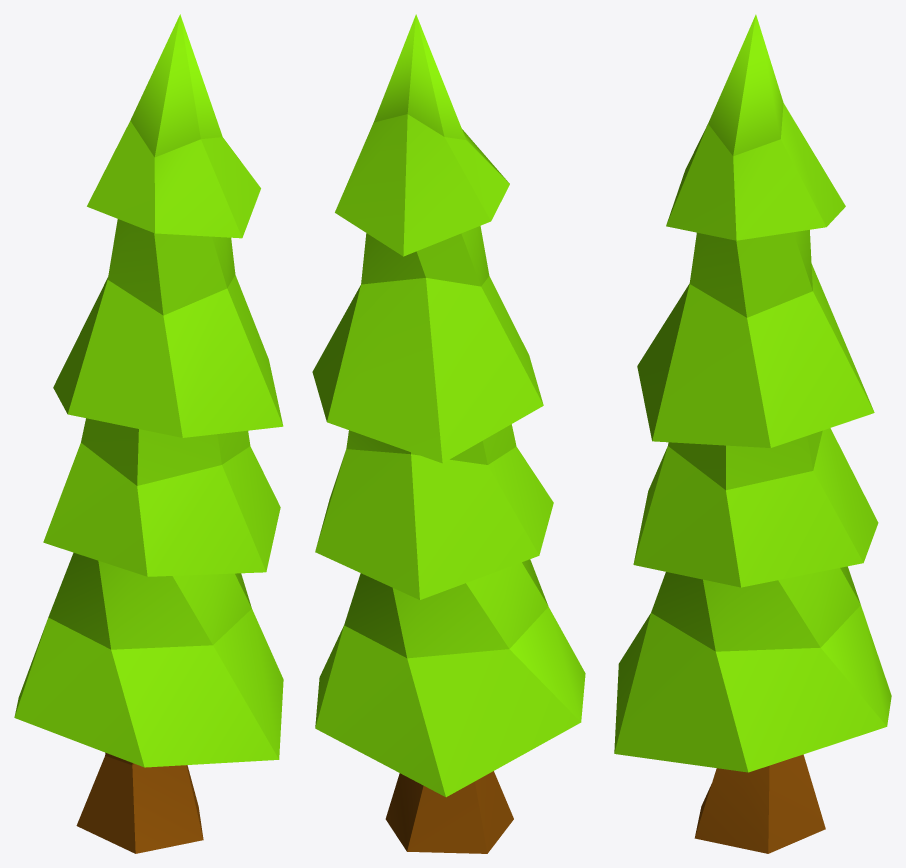
The model's file is Tree12.dae.
3 renders of one model, left to right at view 1: azimuth 30°, elevation 25°; view 2: azimuth 150°, elevation 25°; view 3: azimuth 270°, elevation 25°, orthographic. The views are drawn at different scales.
Visible parts, largest first — view 1: Tree12; view 2: Tree12; view 3: Tree12.
Boxes of the visible parts, x1,y1,x2,y2 form: Tree12: (14,14,283,853); Tree12: (312,14,585,853); Tree12: (614,14,891,853).
Size of the model in its own units: 3.52 by 10.2 by 3.1.
